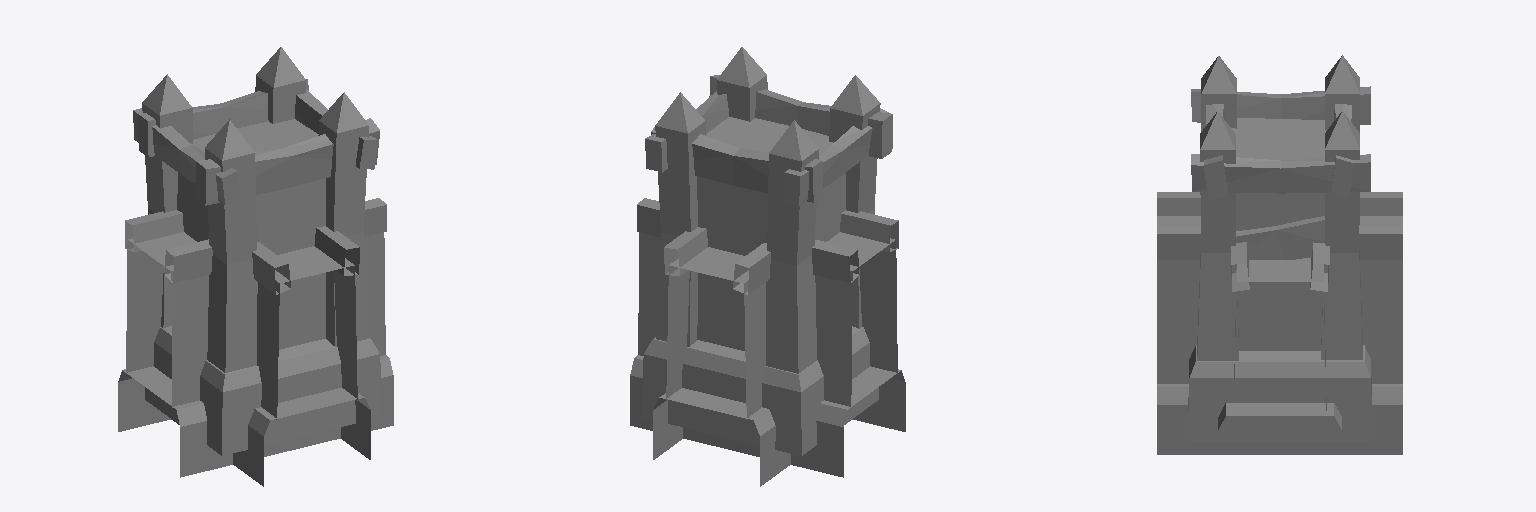
The model's file is WoodWall_A.obj.
3 renders of one model, left to right at view 1: azimuth 30°, elevation 25°; view 2: azimuth 150°, elevation 25°; view 3: azimuth 270°, elevation 25°, orthographic.
Parts seen in each view (by area): view 1: Wall_A_Mesh.010; view 2: Wall_A_Mesh.010; view 3: Wall_A_Mesh.010.
Boxes of the visible parts, <box> form: Wall_A_Mesh.010: <box>118,47,393,486</box>; Wall_A_Mesh.010: <box>630,47,905,486</box>; Wall_A_Mesh.010: <box>1157,55,1402,454</box>.
Size of the model in its own units: 4 by 6.21 by 4.